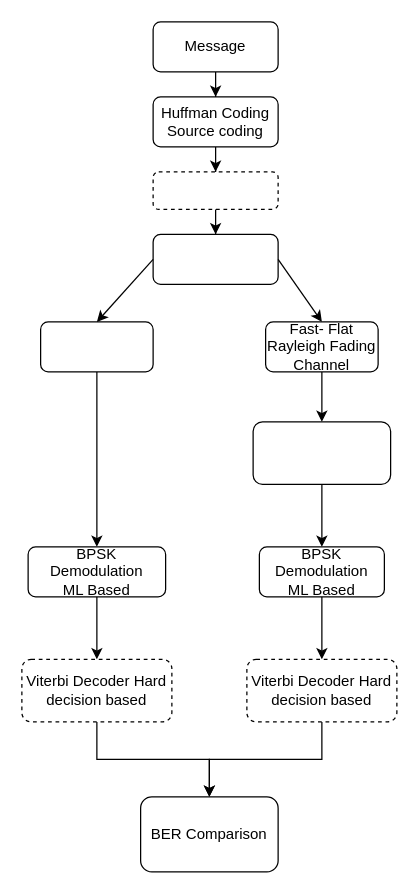
The diagram is 419 pixels wide and 894 high, and some of its shapes have lost their labels. The box of each missing label's shape, as (x1, y1, x2, y2) in pixels:
AWGN Channel: (39, 321, 153, 372)
BPSK Modulation: (152, 233, 278, 284)
Convolutional Coding: (152, 171, 278, 209)
MMSE Equalizer under Ideal Channel Estimation: (252, 421, 391, 484)
